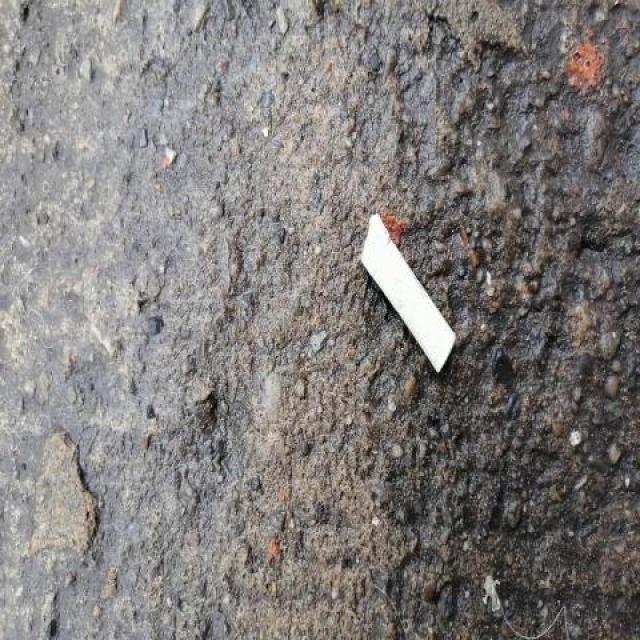non-organic waste: (356, 208, 461, 380)
